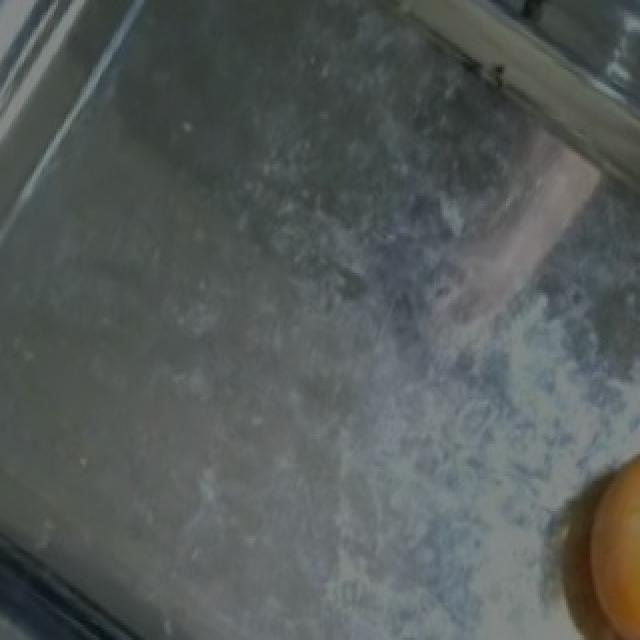Fruit: (548, 431, 640, 640)
